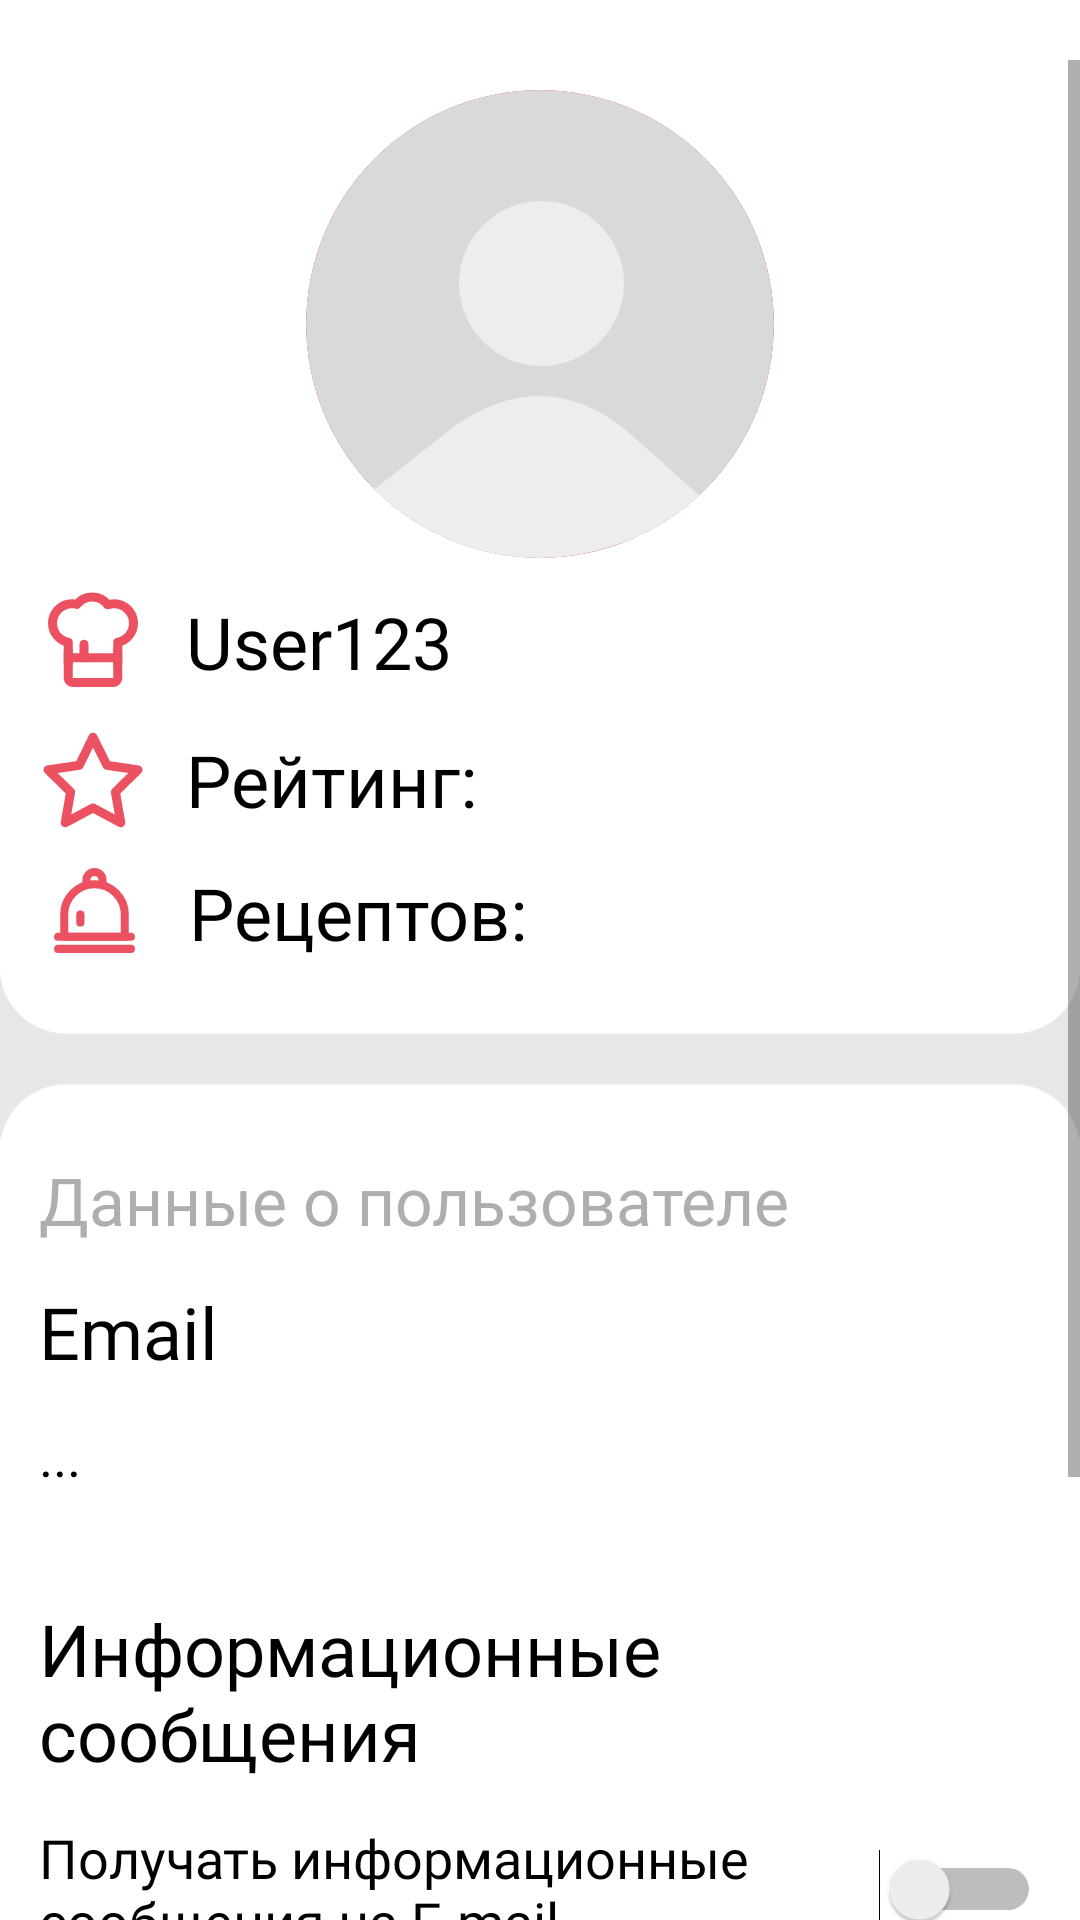

Locate icon controls on the screen. Image size 1080x1920, boxes as (x1, y1, x2, y2).
chef hat one: (48, 592, 138, 687)
cooking: (54, 868, 135, 953)
star: (43, 732, 143, 828)
